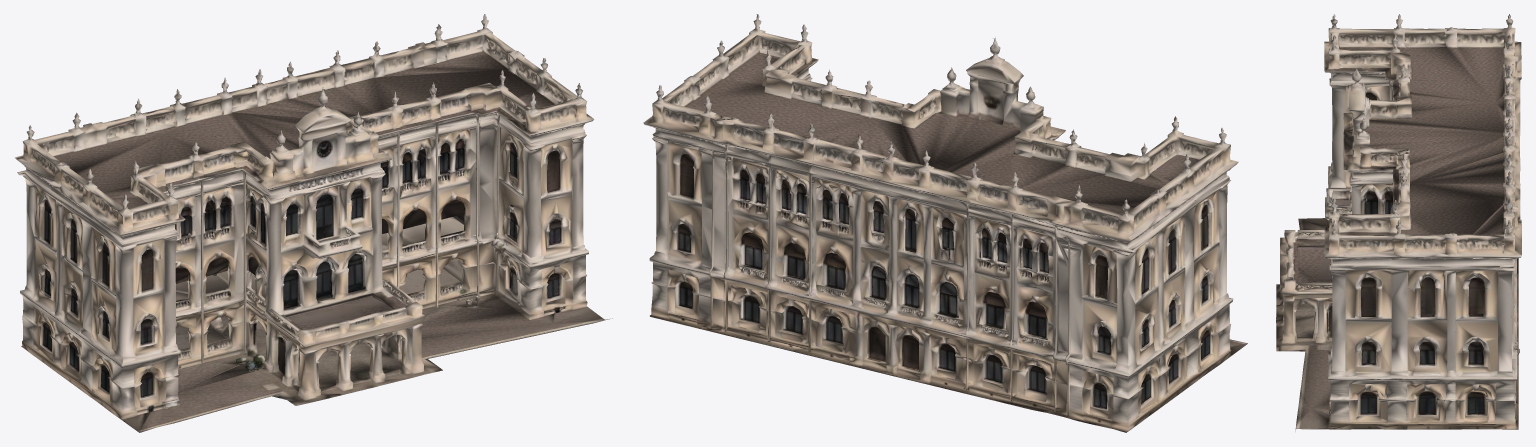
File: presidency_university.glb
The picture shows the model from 3 angles, left to right: view 1: azimuth 30°, elevation 25°; view 2: azimuth 150°, elevation 25°; view 3: azimuth 270°, elevation 25°; orthographic projection. The views are drawn at different scales.
Bounding box in the file's own units: 1.92 × 1.04 × 0.9179.
Materials: 1 (1 with a texture image).
